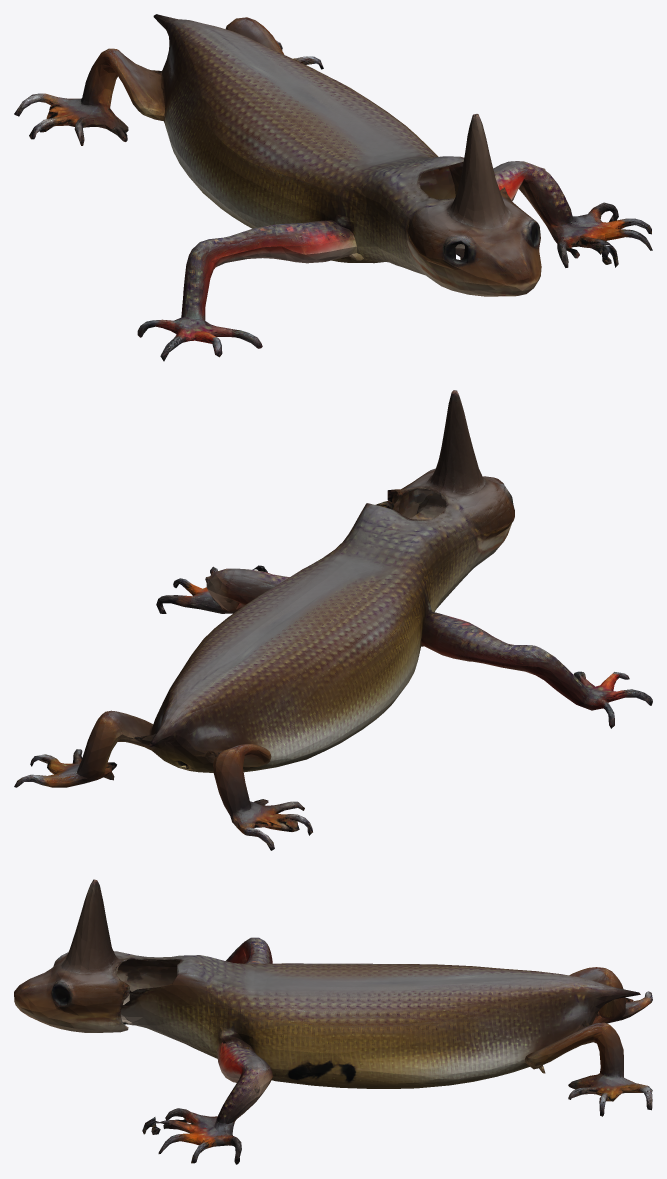
The model's file is vox.glb.
3 views of the same model, one above another, from view 1: azimuth 30°, elevation 25°; view 2: azimuth 150°, elevation 25°; view 3: azimuth 270°, elevation 25° (orthographic). The views are drawn at different scales.
Visible parts, largest first — view 1: world; view 2: world; view 3: world.
Boxes of the visible parts, left/top/right/bottom form: world: left=14, top=14, right=652, bottom=361; world: left=14, top=390, right=652, bottom=850; world: left=14, top=879, right=652, bottom=1164.
Bounding box in the file's own units: 0.7527 × 0.3303 × 0.9843.
1 material, 1 textured.
